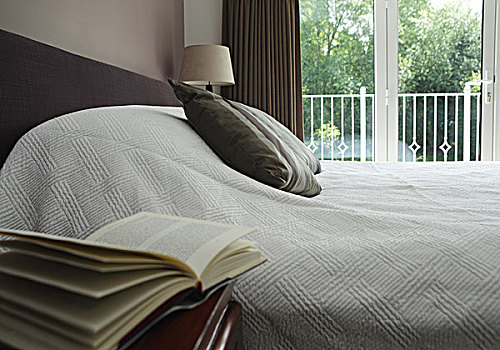book: (0, 211, 268, 348)
